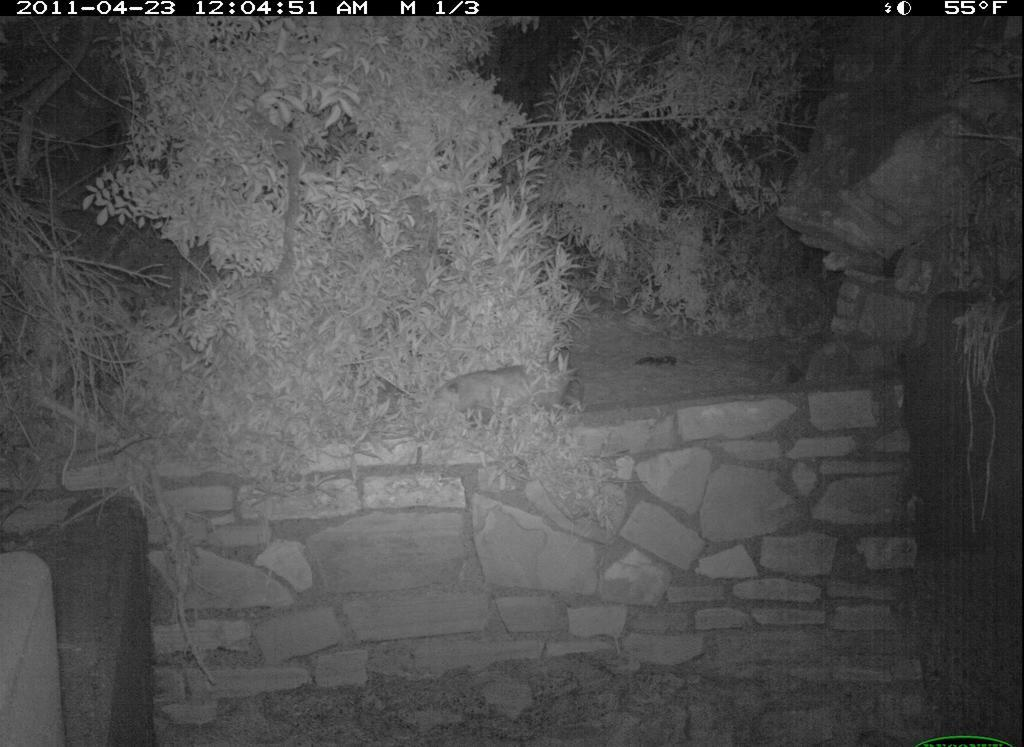opossum: (401, 353, 588, 424)
